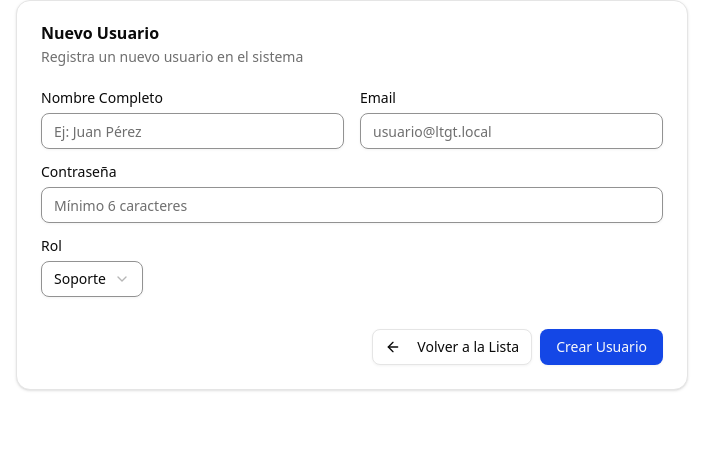
UserForm › explains invalid fields next to them and sends nothing
This screenshot has width=705, height=464.
Type "ana@ltgt" into the field labelled "Email" at (512, 131), box [360,113,663,149]
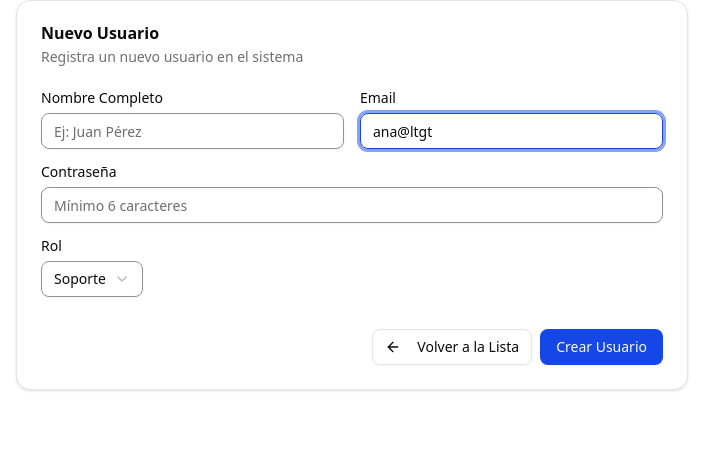
Type "123" into the password field labelled "Contraseña" at (352, 205), box [41,187,663,223]
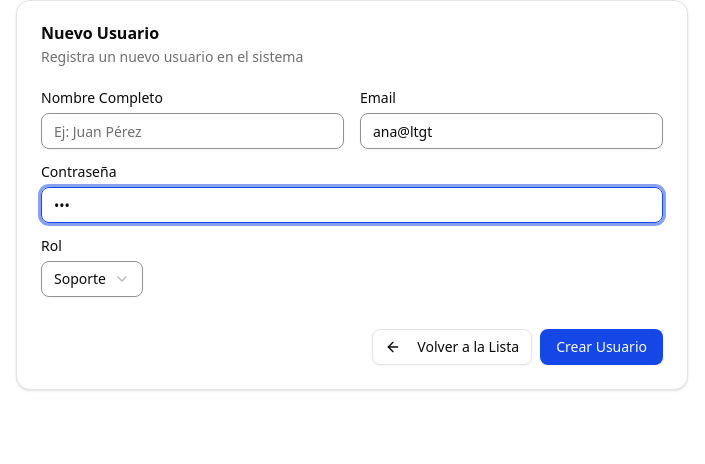
Click the button "Crear Usuario" at (602, 347), box [540,329,663,365]
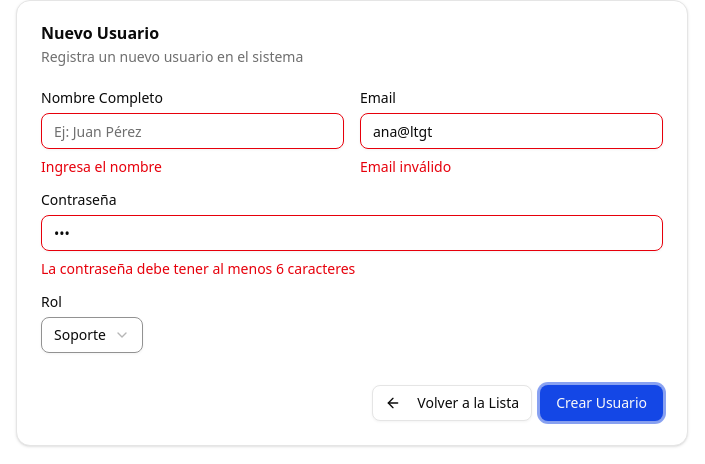
Expected: the text "Ingresa el nombre" is shown, [41,157,162,176]
Expected: the text "Email inválido" is shown, [360,157,451,176]
Expected: the text "La contraseña debe tener al menos 6 caracteres" is shown, [41,259,355,278]
